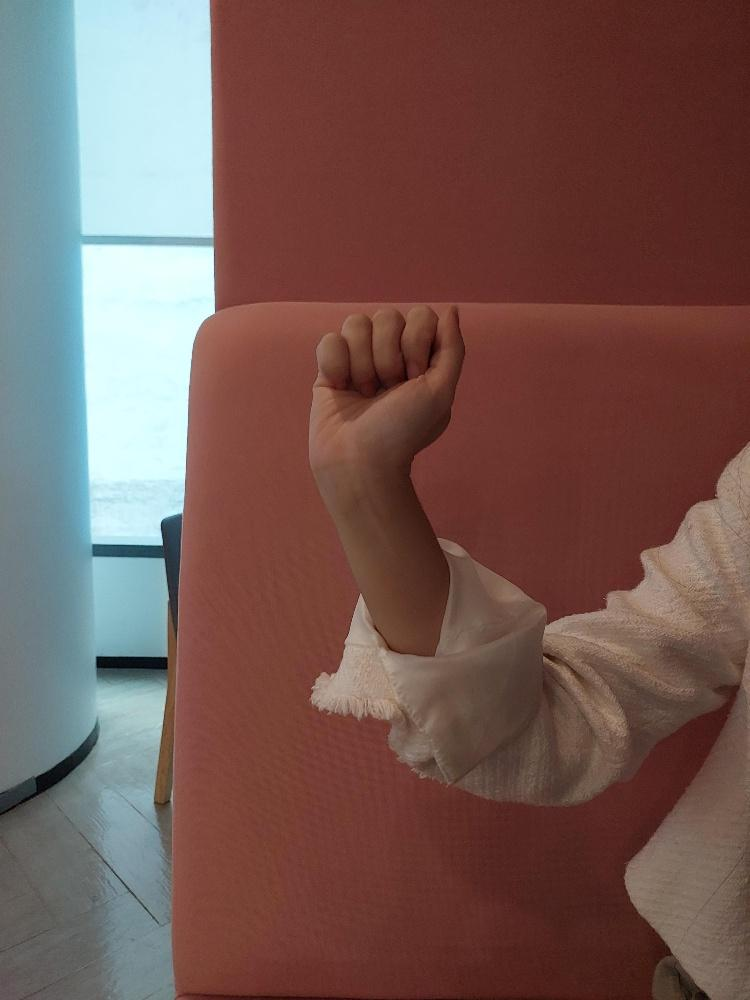a: (307, 301, 465, 459)
